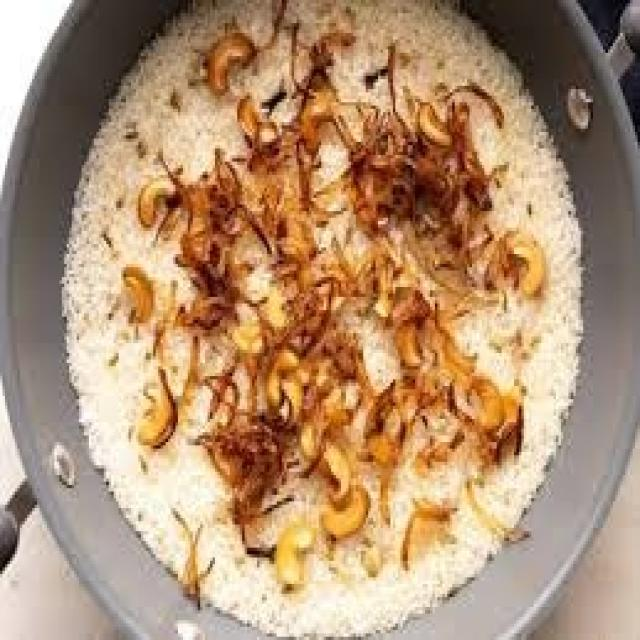nei satham: (58, 0, 573, 624)
